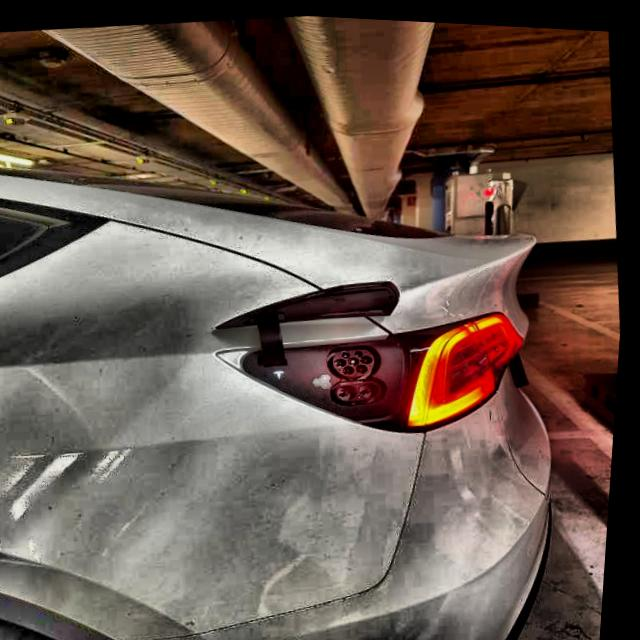inlet: (337, 344, 379, 372)
inlet-above-left: (346, 348, 354, 354)
inlet-above-right: (359, 346, 367, 352)
inlet-below-left: (347, 361, 359, 370)
inlet-below-right: (360, 360, 372, 369)
inlet-center: (352, 352, 364, 361)
inlet-center-left: (339, 354, 351, 363)
inlet-center-right: (365, 351, 377, 360)
